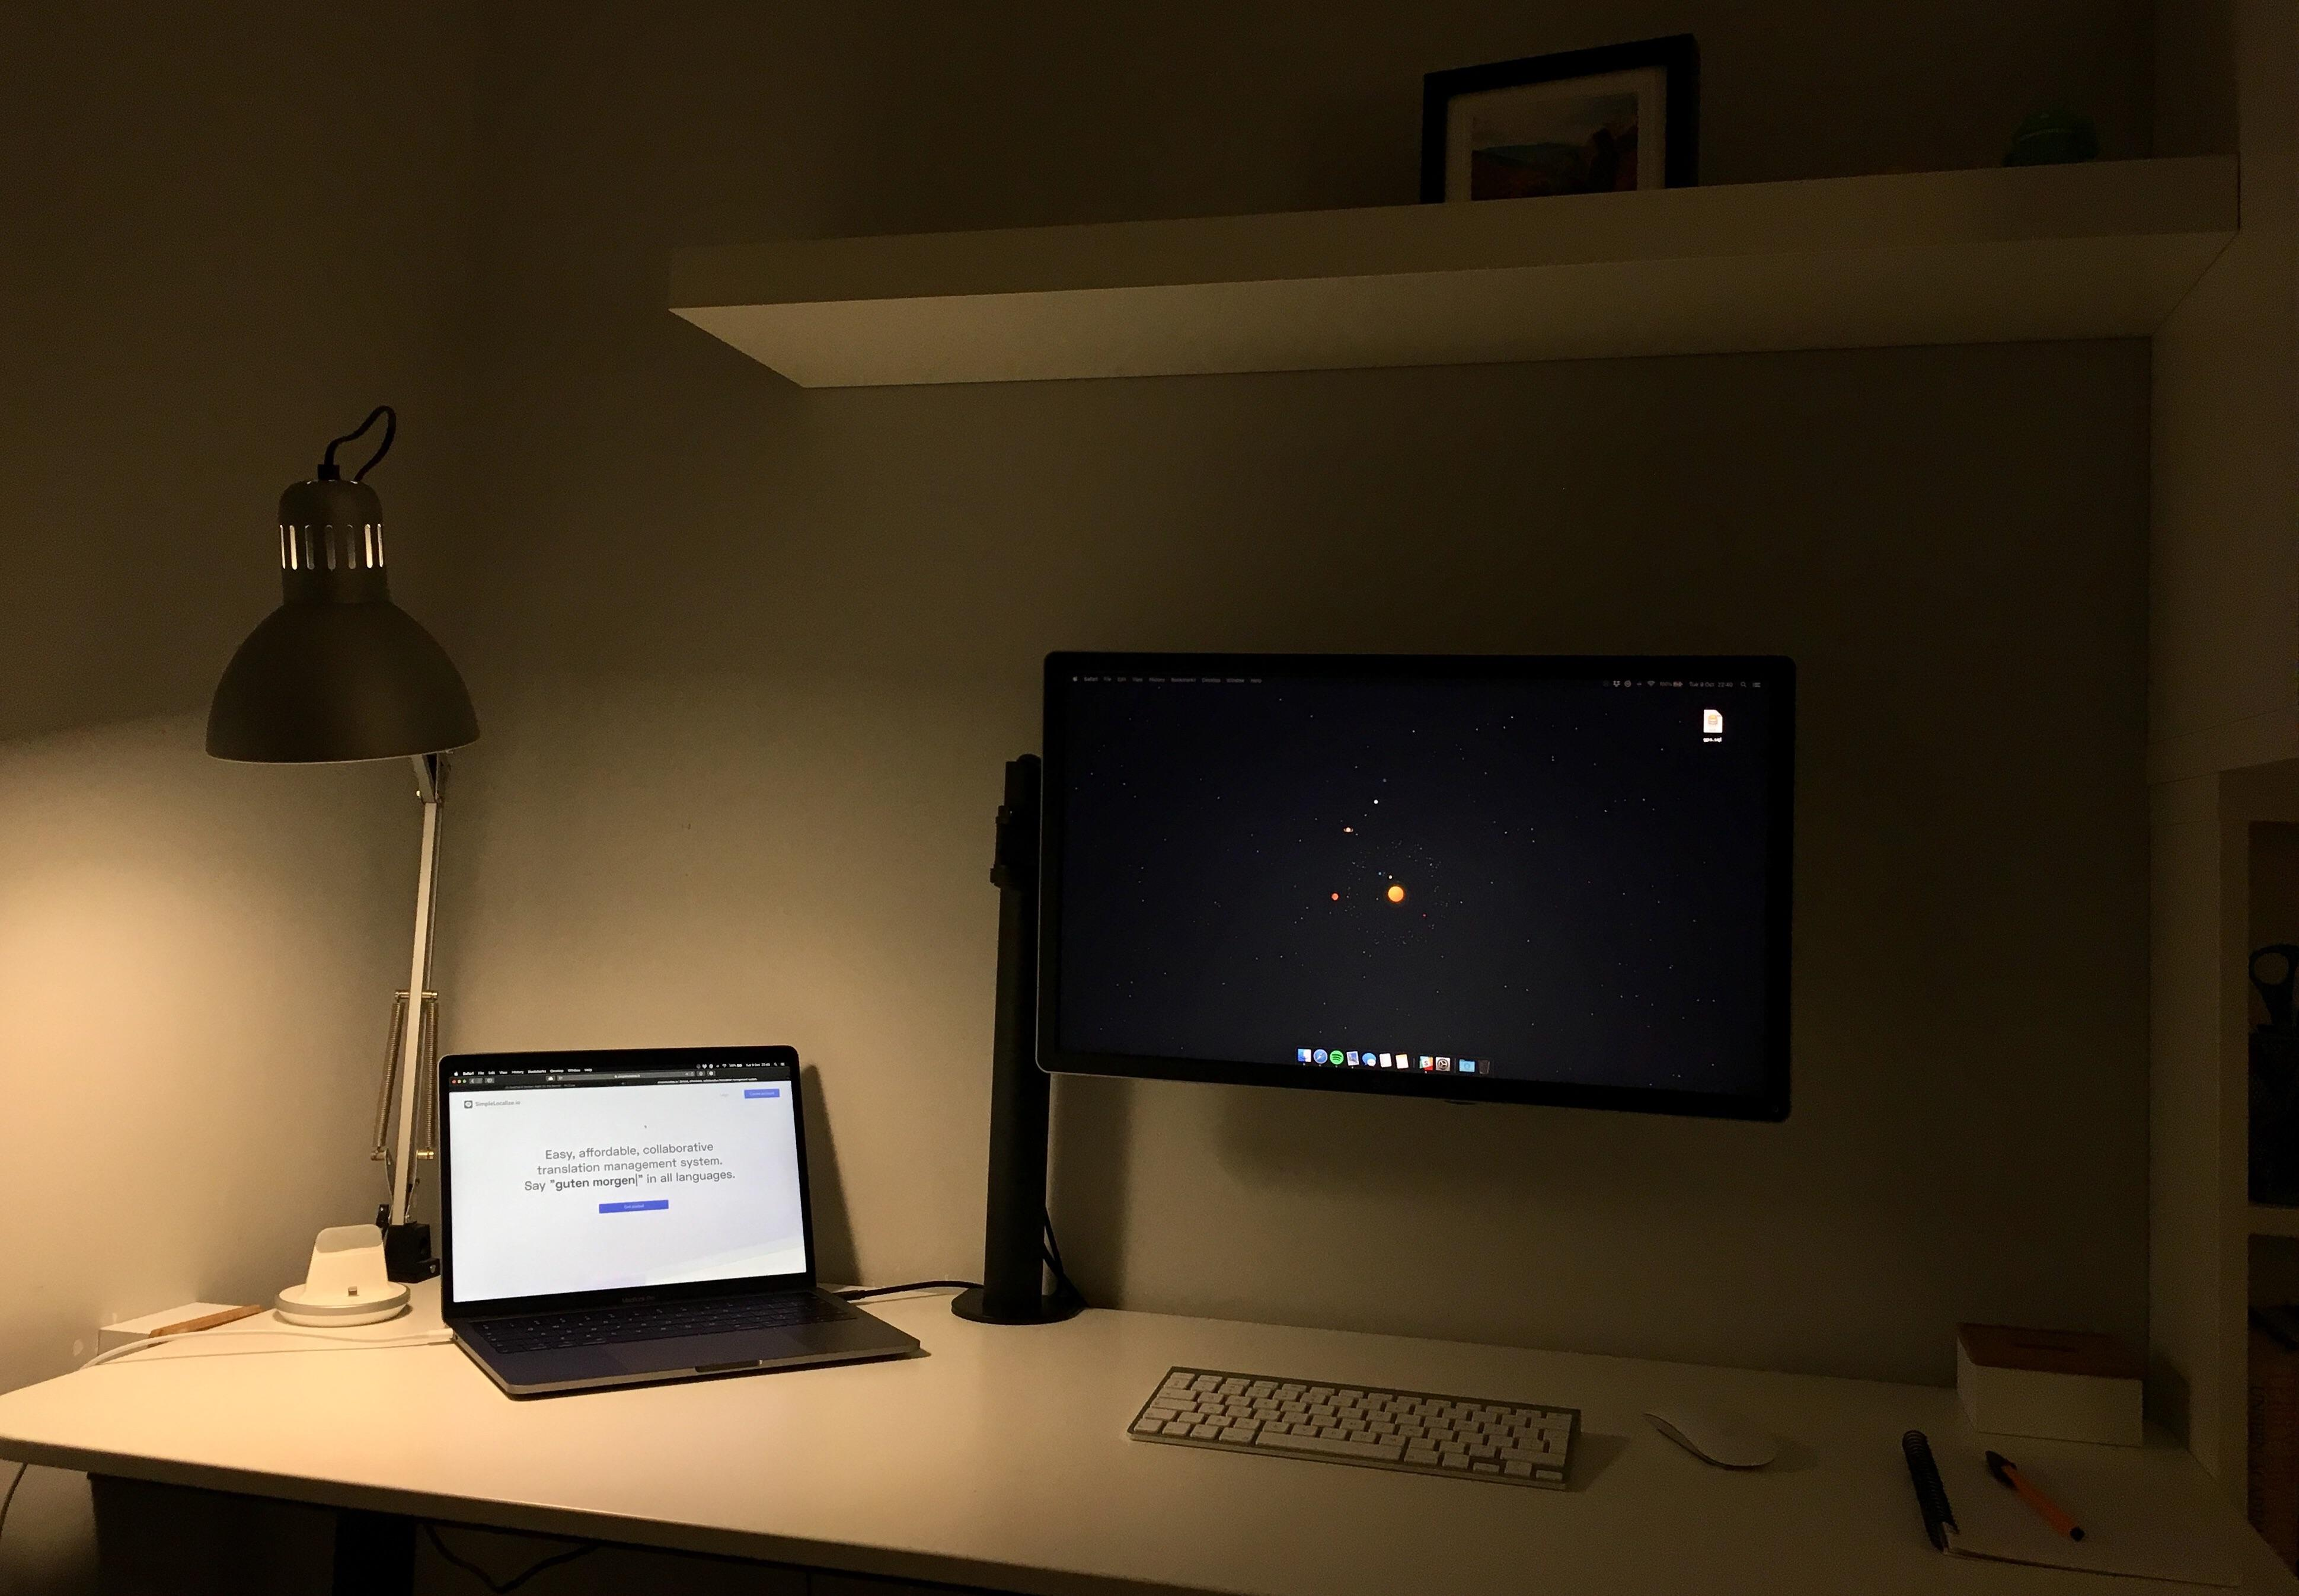Book: (1948, 1322, 2157, 1446)
Desk (Generic): (2, 1259, 2294, 1596)
Keyboard (Generic): (1127, 1367, 1583, 1495)
Lamp (Desk): (197, 410, 445, 1325)
Laptop (OSX): (435, 1049, 926, 1402)
Monitor (Laptop): (437, 1041, 821, 1278)
Monitor (iMac): (1036, 643, 1796, 1119)
Monitor Arm: (947, 747, 1087, 1327)
Mouse (Generic): (1640, 1393, 1780, 1474)
Notebook: (1897, 1427, 2247, 1587)
Phone Holder: (269, 1221, 414, 1329)
